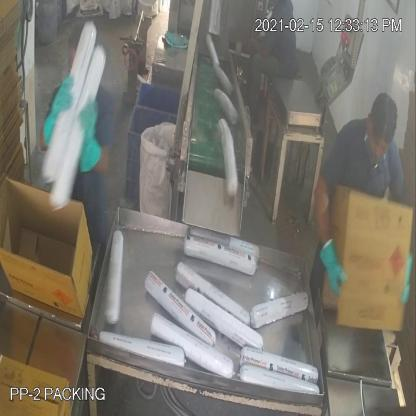glove: (32, 68, 73, 150), (316, 230, 350, 302), (76, 89, 102, 179)
no_glove: (242, 24, 272, 57)
